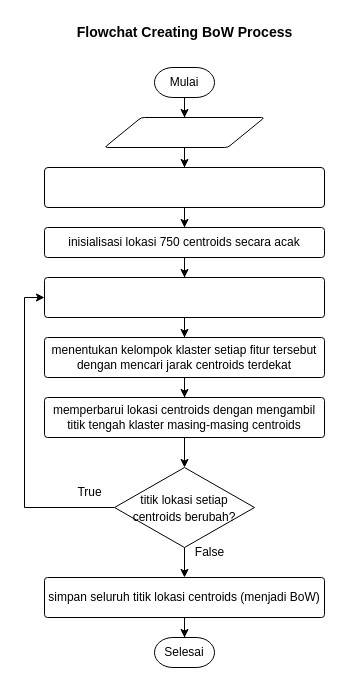
Some shapes in this 342 by 685 pixel diagram are drawn without their labels. Each missing label, with the centre of its shape:
"inisialisasi data" belongs at point (184, 132).
"menggabungkan semua hasil ekstraksi fitur sift ke dalam satu data array" belongs at point (184, 187).
"menghitung jarak setiap fitur deskriptor terhadap centroids" belongs at point (184, 297).
